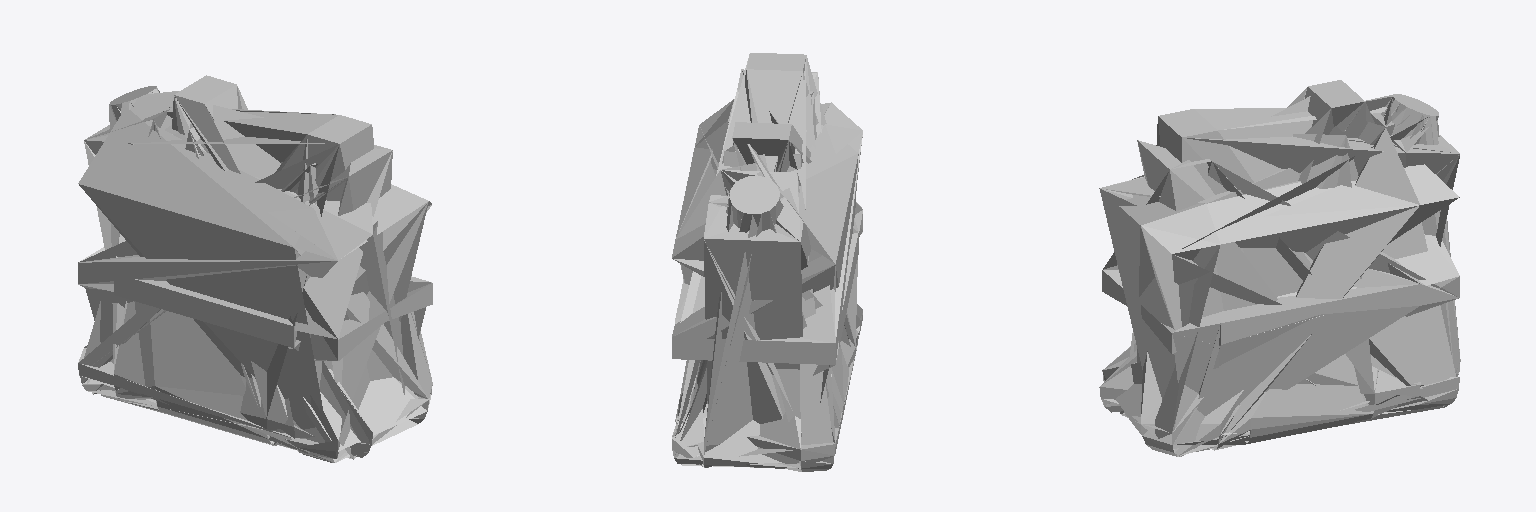
File: Gas can.obj
3 renders of one model, left to right at view 1: azimuth 30°, elevation 25°; view 2: azimuth 150°, elevation 25°; view 3: azimuth 270°, elevation 25°, orthographic.
Visible parts, largest first — view 1: Cylinder004, Box002; view 2: Cylinder004, Box002, Cylinder005; view 3: Cylinder004, Box002.
Boxes of the visible parts, x1,y1,x2,y2 form: Cylinder004: [78, 88, 432, 462]; Box002: [78, 75, 432, 462]; Cylinder004: [672, 53, 862, 471]; Box002: [672, 53, 862, 471]; Cylinder005: [729, 176, 779, 230]; Cylinder004: [1099, 88, 1460, 456]; Box002: [1099, 80, 1459, 456].
Size of the model in its own units: 395326 by 465025 by 503626.